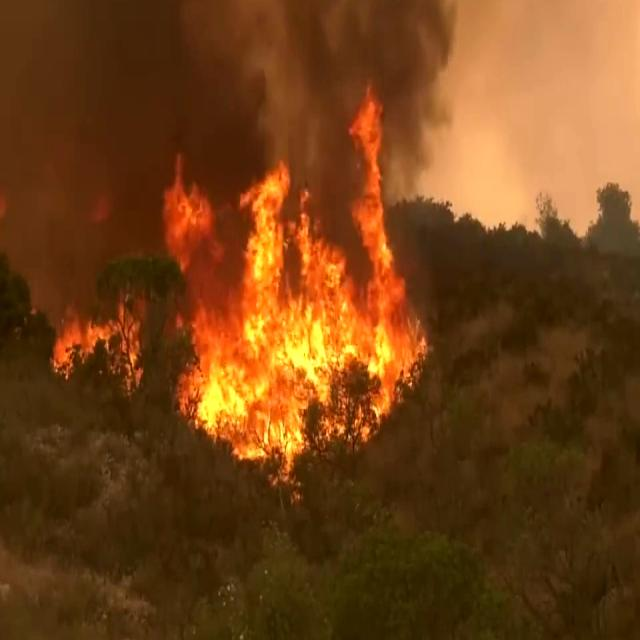fire: (162, 134, 427, 477)
smoke: (37, 0, 502, 91)
